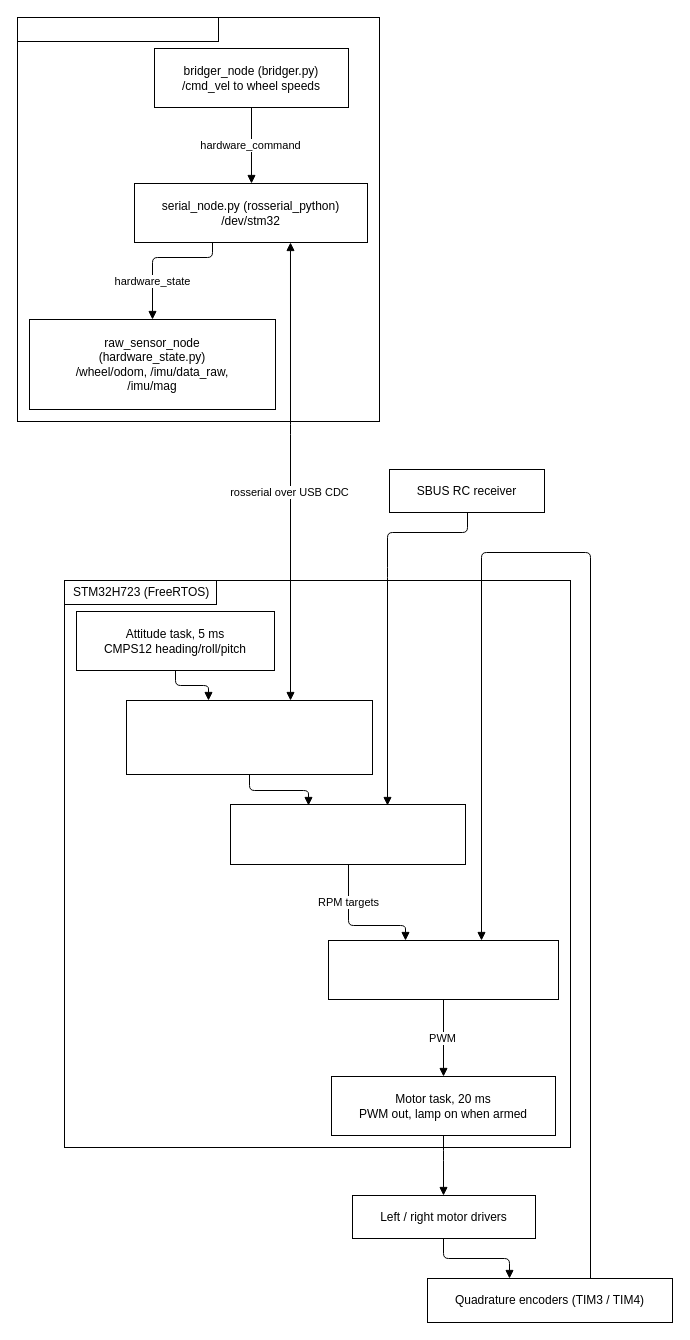
Some shapes in this 690 by 1340 pixel diagram are drawn without their labels. The box of each missing label's shape, as (x1, y1, x2, y2) in pixels:
NVIDIA Jetson (msd700 container): (16, 16, 218, 42)
Odometry task, 5 ms encoders + per-wheel PID (pidIr): (328, 940, 558, 1000)
ROS task, 20 Hz pub hardware_state, sub hardware_command: (126, 700, 372, 774)
VehicleState task SBUS arm switch + RC/PC select: (230, 804, 466, 864)
